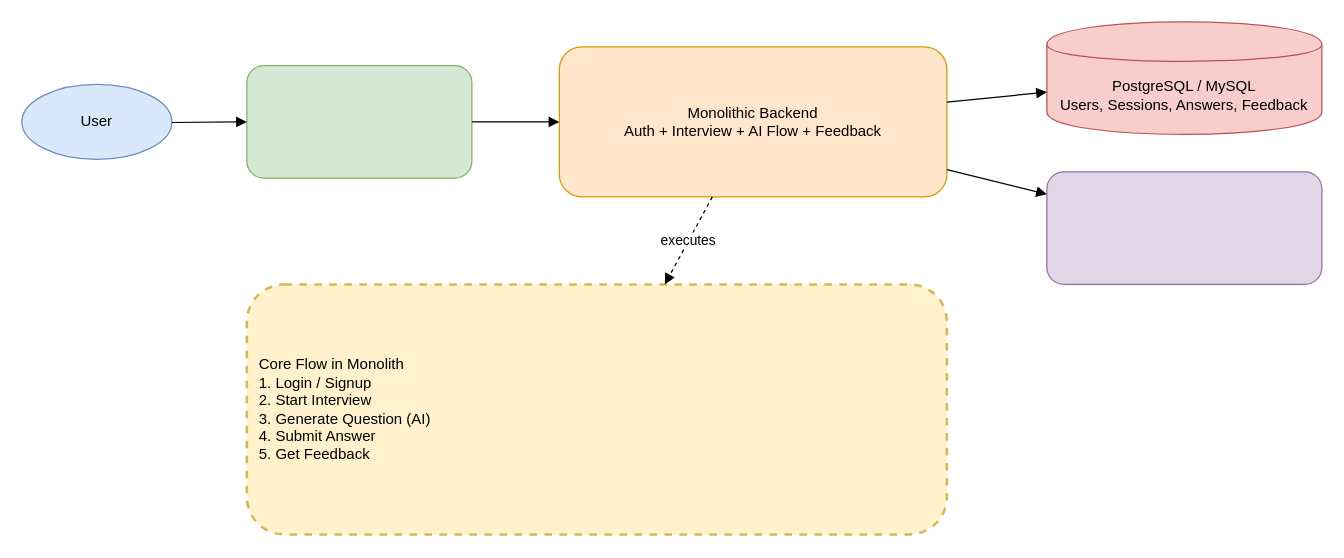
Some shapes in this 1344 by 558 pixel diagram are drawn without their labels. The centre of each missing label's shape, as x and y in pixels:
"Frontend App (Web UI)" belongs at pixel 359 121.
"LLM API Question Generation + Feedback" belongs at pixel 1184 227.
